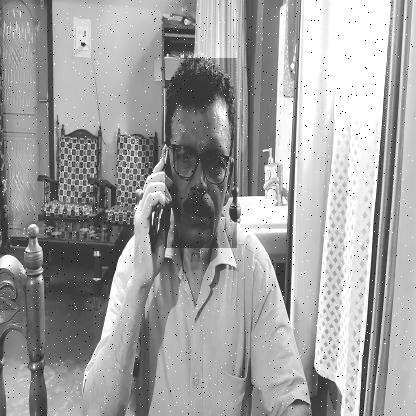Normal: (165, 58, 237, 248)
